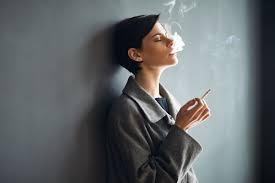smoker: (110, 2, 215, 122)
